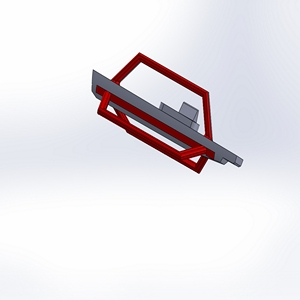submarine: (77, 47, 259, 194)
